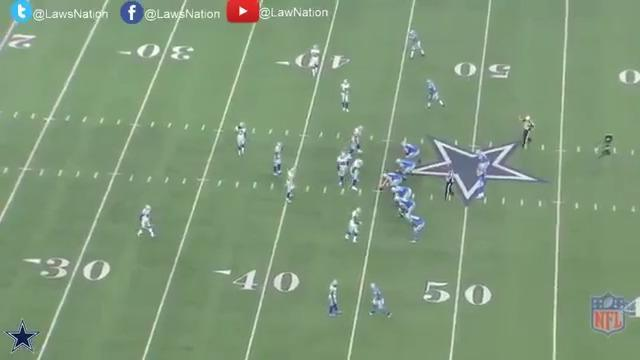player: (366, 281, 393, 320), (136, 204, 159, 241), (326, 278, 345, 321), (335, 150, 354, 192), (405, 211, 428, 245), (344, 206, 363, 246), (471, 161, 490, 200), (234, 120, 252, 161), (422, 79, 445, 111), (377, 171, 404, 197), (408, 27, 427, 62), (347, 154, 364, 193), (400, 141, 424, 168), (348, 124, 366, 158), (390, 184, 413, 209), (272, 140, 286, 180), (284, 165, 298, 205), (394, 157, 415, 181), (396, 195, 417, 219), (340, 79, 353, 115), (309, 44, 322, 79), (476, 150, 490, 180)
ref: (519, 113, 538, 150), (442, 163, 458, 202)
